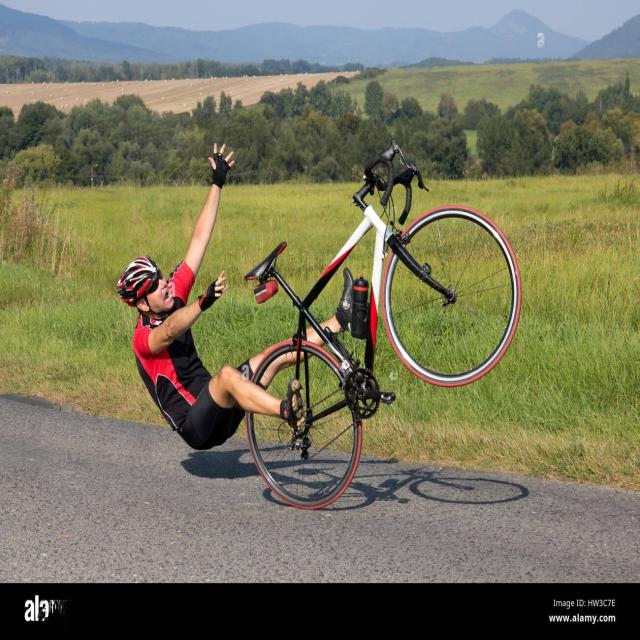accident: (245, 139, 521, 508)
